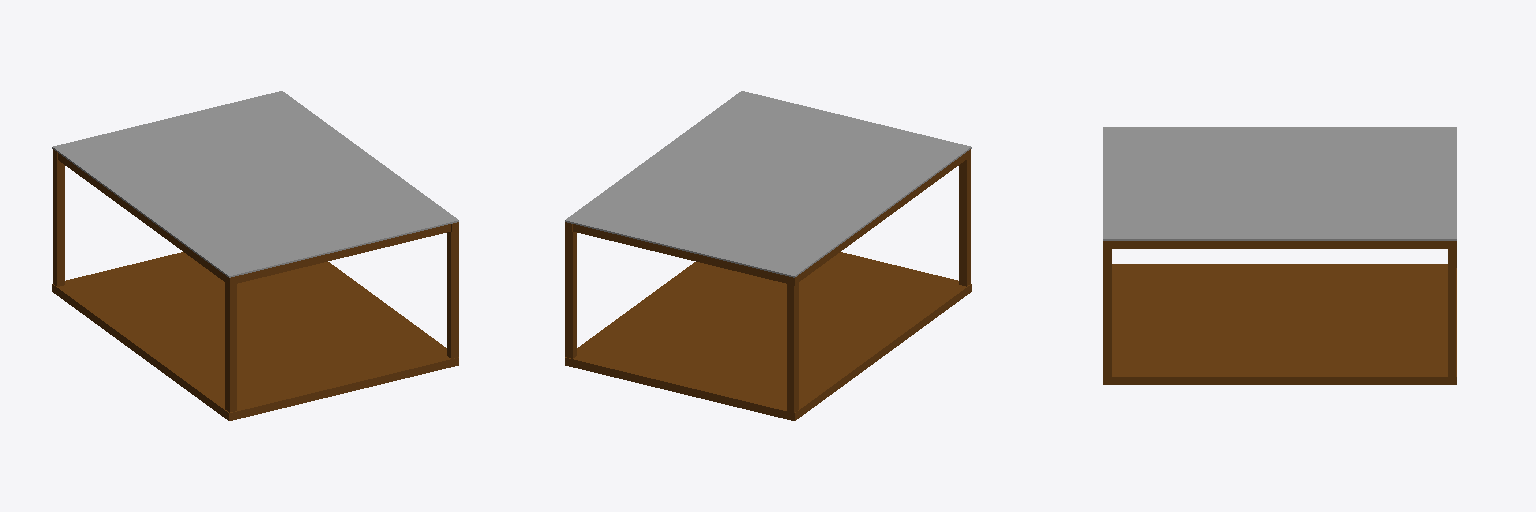
The model's file is tableS.obj.
The picture shows the model from 3 angles: view 1: azimuth 30°, elevation 25°; view 2: azimuth 150°, elevation 25°; view 3: azimuth 270°, elevation 25°; orthographic projection.
Visible parts, largest first — view 1: tableUp.003_Cube.008; view 2: tableUp.003_Cube.008; view 3: tableUp.003_Cube.008.
Part boxes in pixels (x1,y1,x2,y2): tableUp.003_Cube.008: (52, 91, 458, 420); tableUp.003_Cube.008: (565, 91, 971, 420); tableUp.003_Cube.008: (1103, 127, 1456, 384).
Size of the model in its own units: 3.01 by 1.81 by 4.